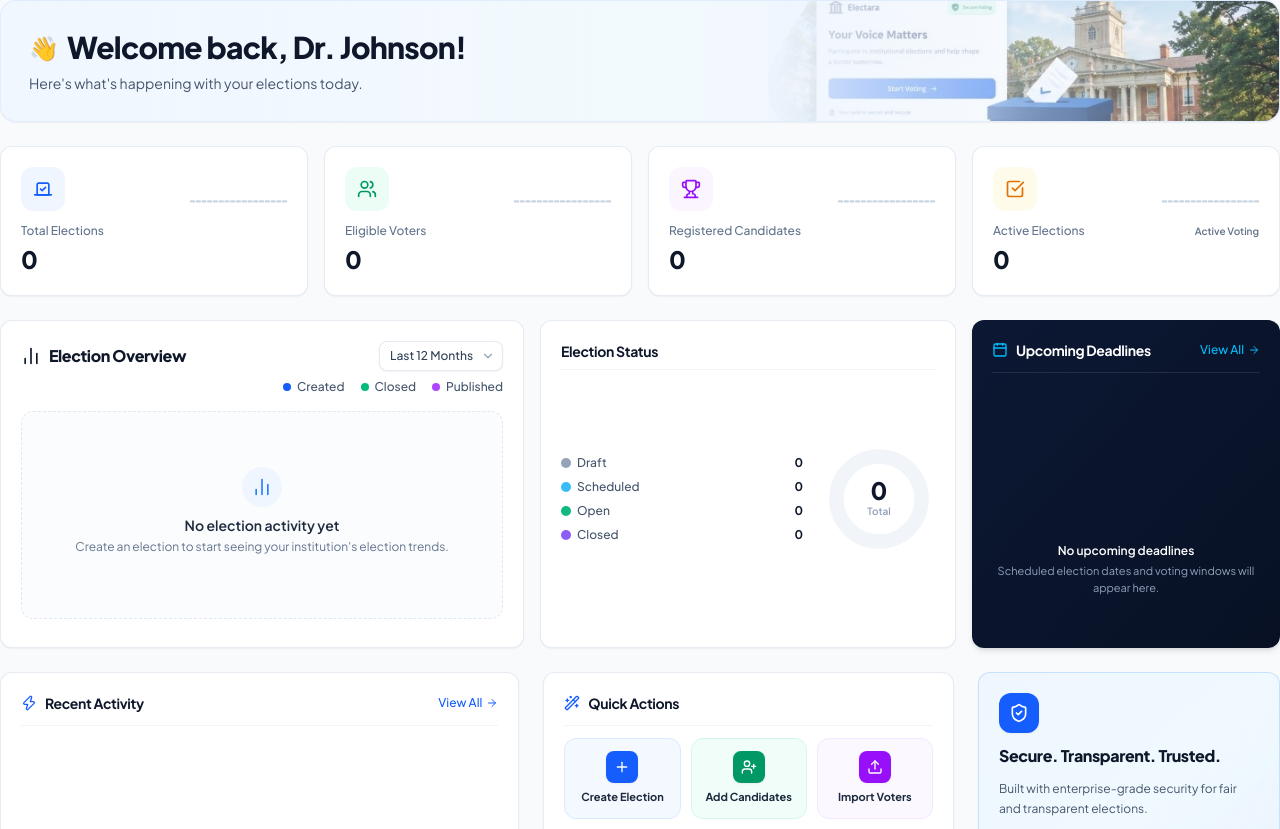
Test case: AdminDashboardPage Functional & Real Data Wiring › renders candidate photo on candidate cards and includes photo upload in add candidate modal
The width and height of the screenshot is (1280, 829).
# Navigate to candidates workspace tab
Click the button "Add Candidates".
click(749, 778)  # box x1=690 y1=738 x2=807 y2=818
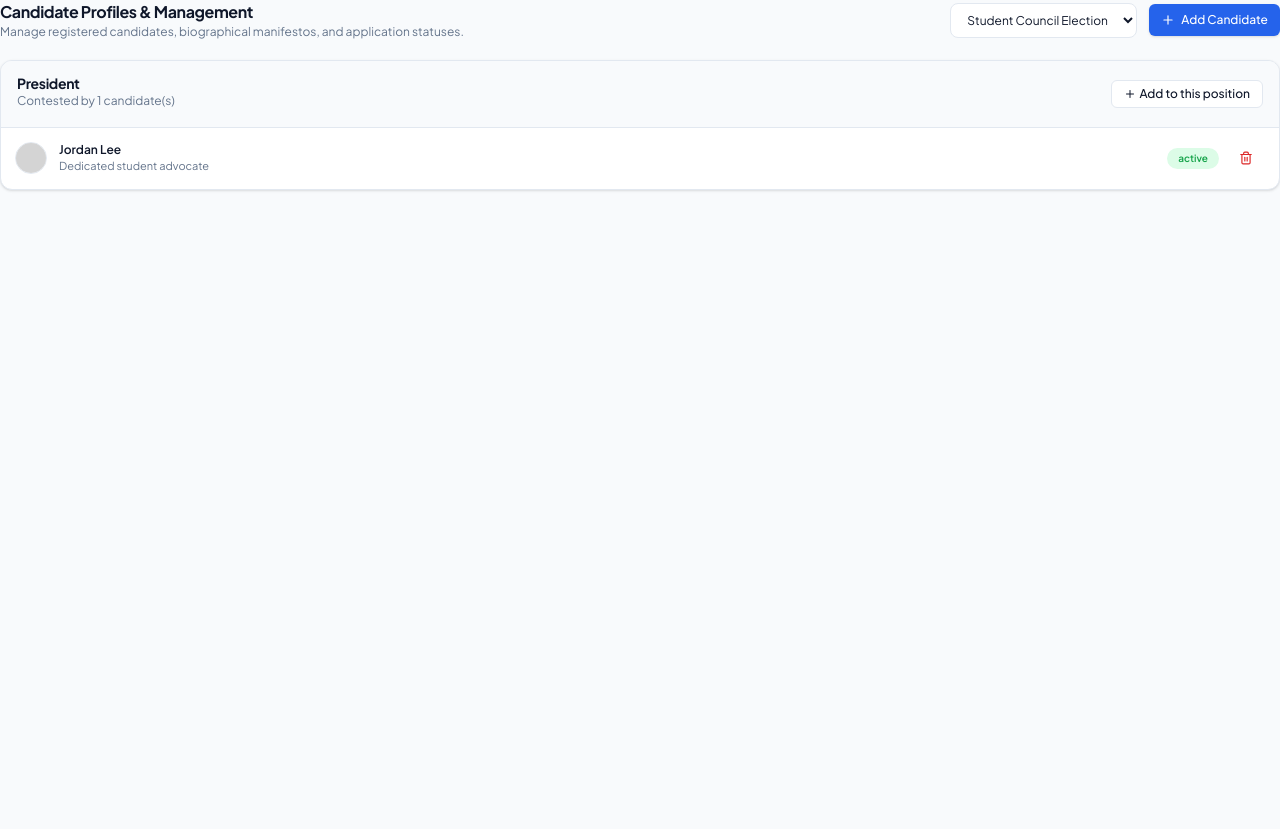
# Open Add Candidate modal
Click the button "Add Candidate".
click(1215, 20)  # box x1=1149 y1=4 x2=1279 y2=36
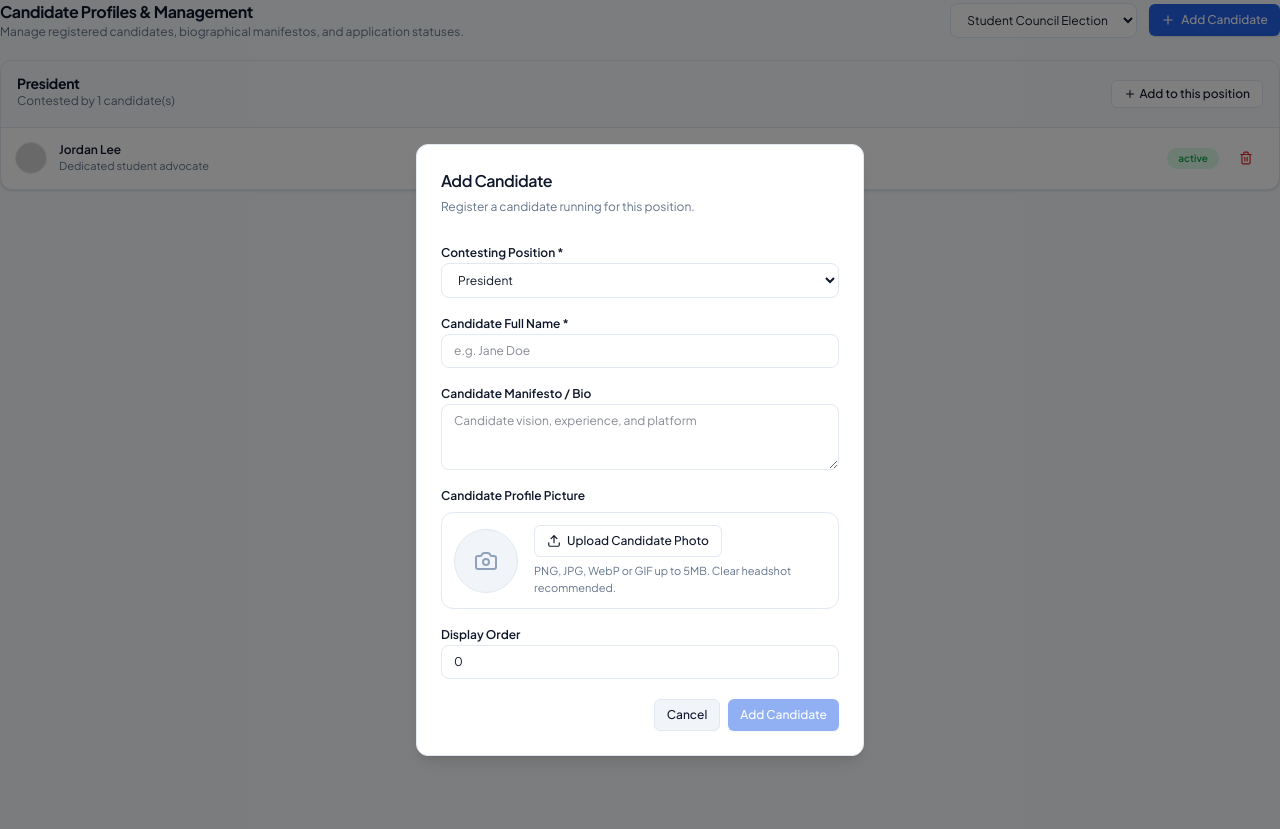
expect the text "Candidate Profile Picture" is shown: met, box x1=441 y1=488 x2=585 y2=503
expect the button "Upload Candidate Photo" is shown: met, box x1=534 y1=525 x2=722 y2=557
